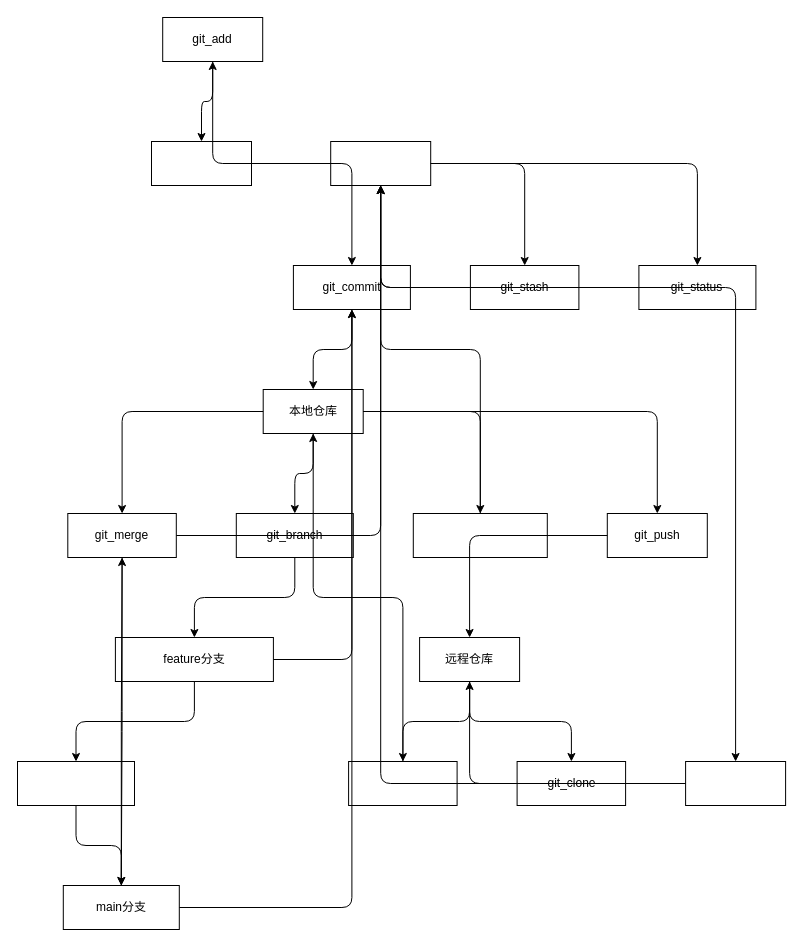
Image size: 804x947. Some labels were removed from this diagram. Each missing label, with the centre of its shape:
"git_checkout" goes at (479,535).
"git_fetch" goes at (402,783).
"git_rebase" goes at (75,783).
"git_tag" goes at (735,783).
"工作目录" goes at (380,163).
"暂存区" goes at (201,163).
